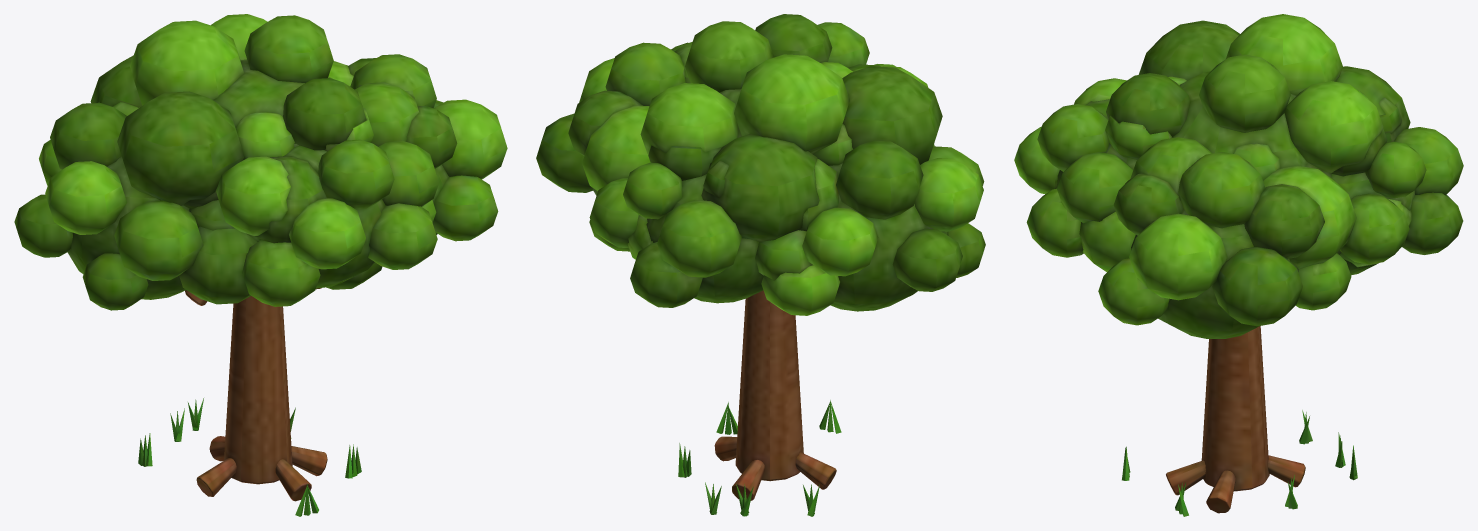
Rendered from persimmon_tree.glb.
3 renders of one model, left to right at view 1: azimuth 30°, elevation 25°; view 2: azimuth 150°, elevation 25°; view 3: azimuth 270°, elevation 25°, orthographic.
Parts seen in each view (by area): view 1: crown, persimmon_tree; view 2: crown, persimmon_tree; view 3: crown, persimmon_tree.
Boxes of the visible parts, x1,y1,x2,y2 form: crown: [14, 14, 507, 310]; persimmon_tree: [138, 288, 361, 516]; crown: [536, 14, 985, 315]; persimmon_tree: [678, 290, 841, 516]; crown: [1014, 14, 1463, 338]; persimmon_tree: [1122, 326, 1357, 516].
Bounding box in the file's own units: 1.3 × 1.28 × 1.17.
Materials: 1 (1 with a texture image).
